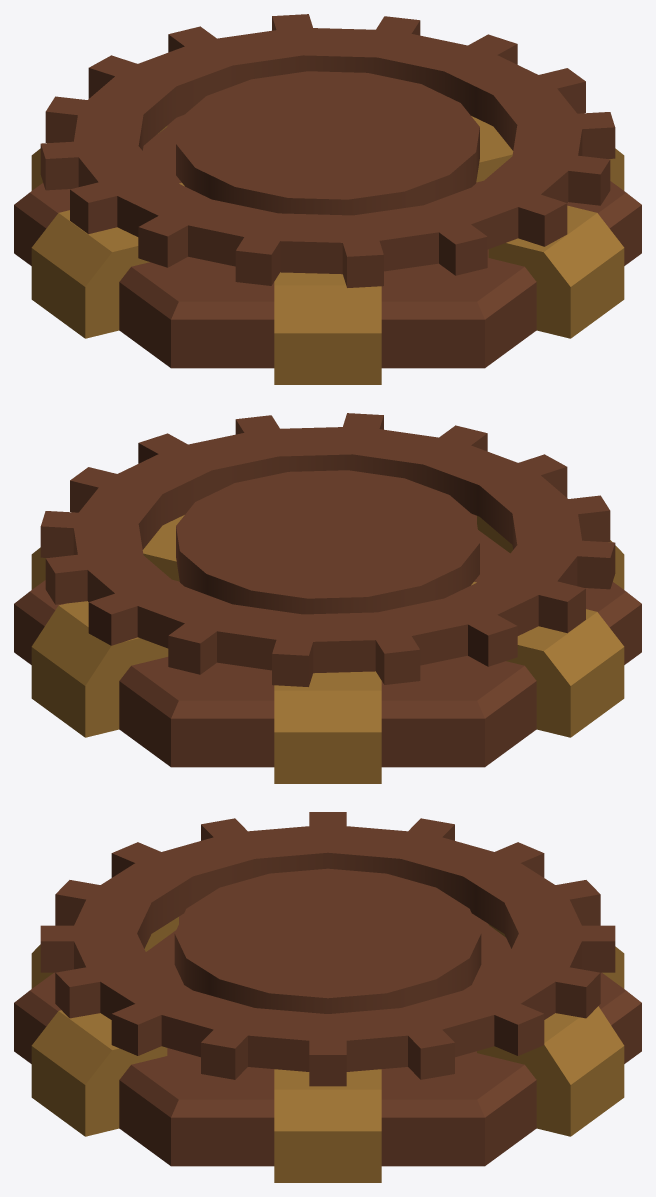
File: BaseTile_Turret_Base.fbx
3 views of the same model, one above another, from view 1: azimuth 30°, elevation 25°; view 2: azimuth 150°, elevation 25°; view 3: azimuth 270°, elevation 25° (orthographic).
Visible parts, largest first — view 1: BaseTile_Turret_Base; view 2: BaseTile_Turret_Base; view 3: BaseTile_Turret_Base.
Boxes of the visible parts, box(x1,y1,x2,y2) form: BaseTile_Turret_Base: box(14, 14, 641, 384); BaseTile_Turret_Base: box(14, 413, 641, 783); BaseTile_Turret_Base: box(14, 812, 641, 1182).
Size of the model in its own units: 1.59 by 0.3326 by 1.61.
